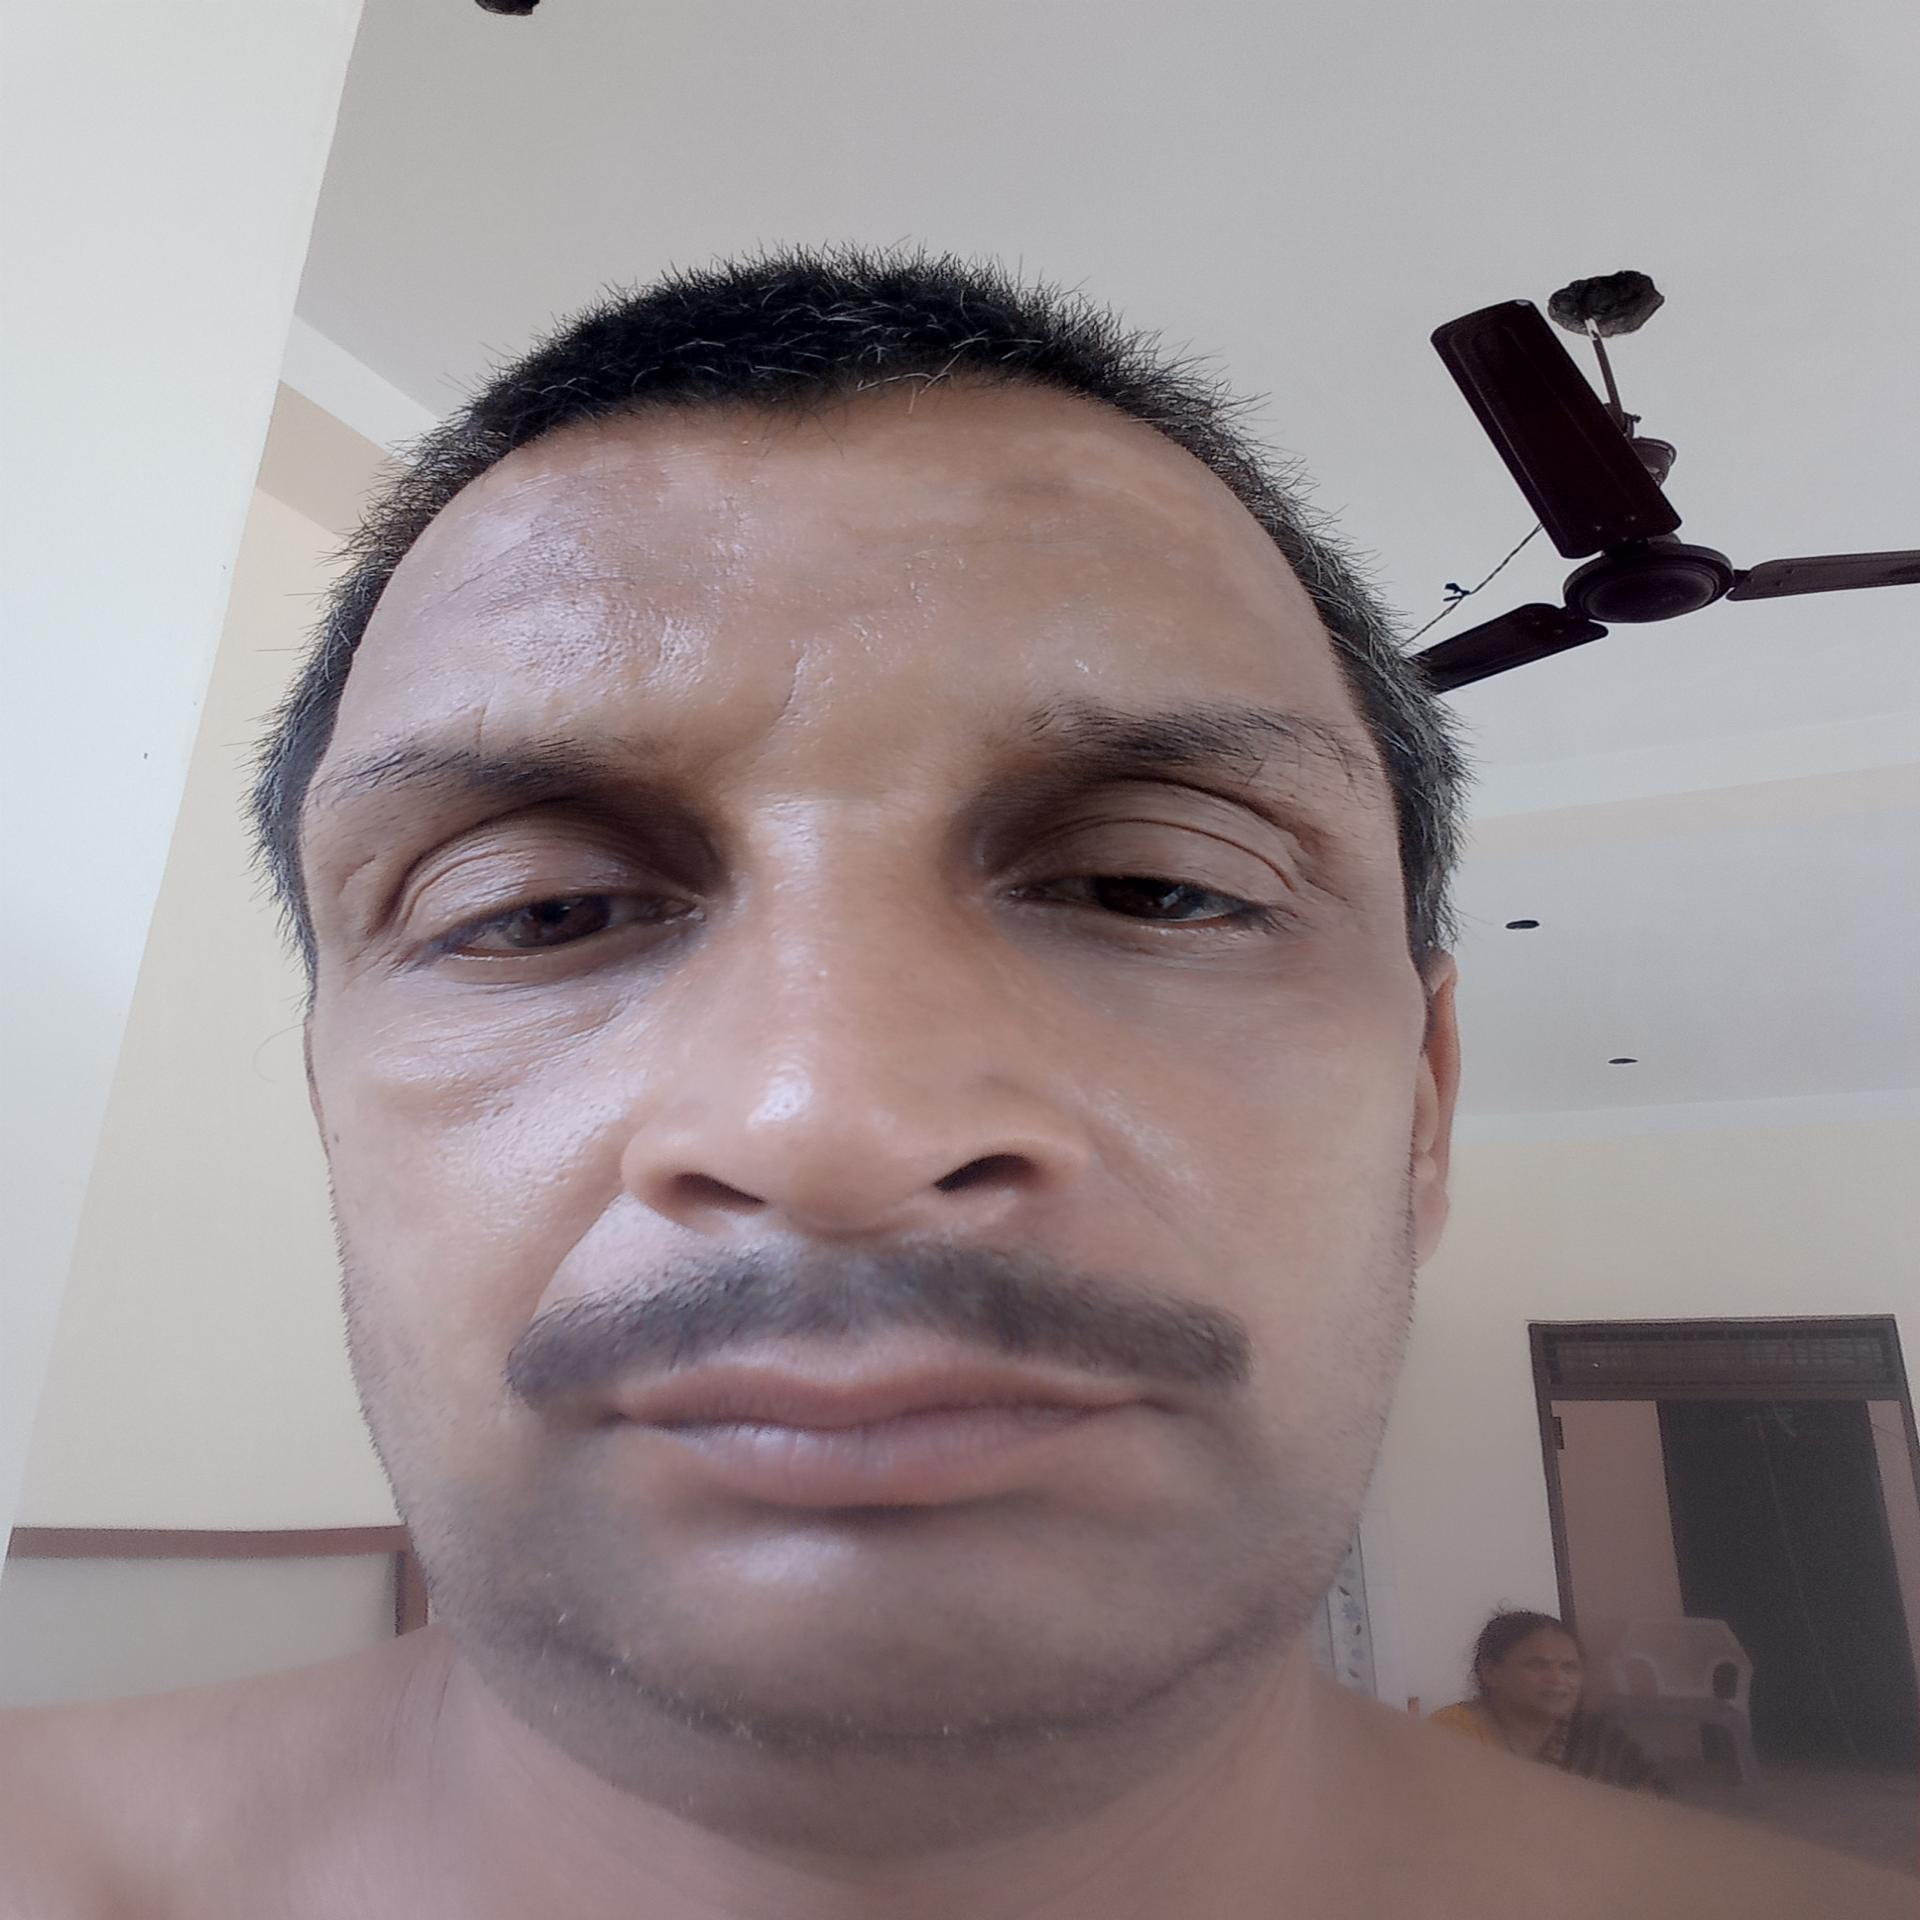Englarged Pores: (499, 499, 679, 695), (454, 1074, 563, 1178)
Wrinkles: (461, 443, 768, 515), (1097, 1146, 1224, 1287), (380, 995, 621, 1064), (520, 1185, 626, 1329), (482, 508, 666, 559), (761, 644, 818, 751), (480, 571, 633, 610), (425, 563, 492, 612), (1294, 872, 1361, 911), (327, 851, 383, 897), (468, 687, 499, 751), (703, 737, 754, 774)
